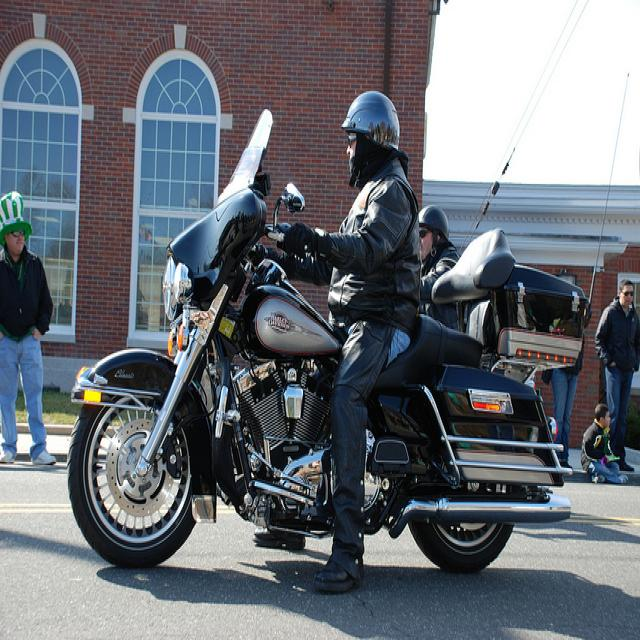motor: (62, 112, 592, 572)
